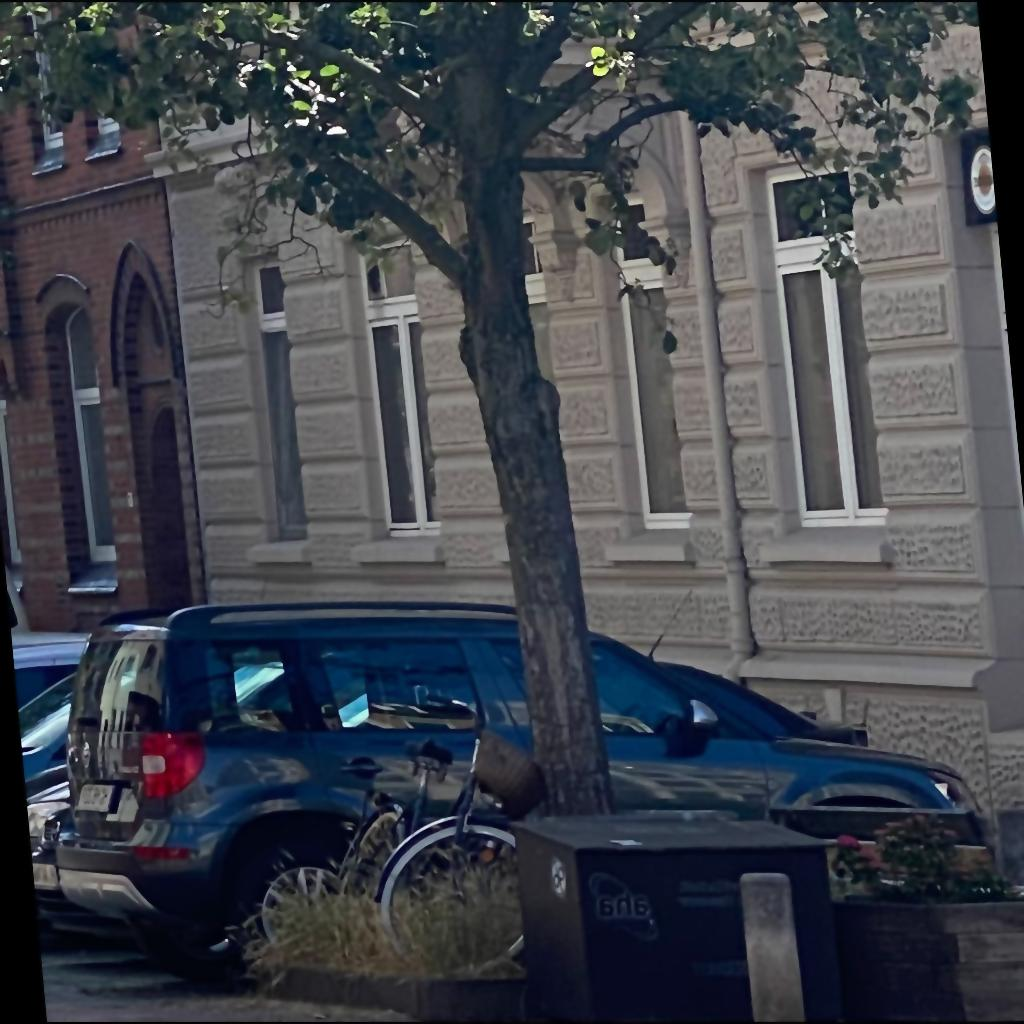tree: (1, 1, 981, 811)
